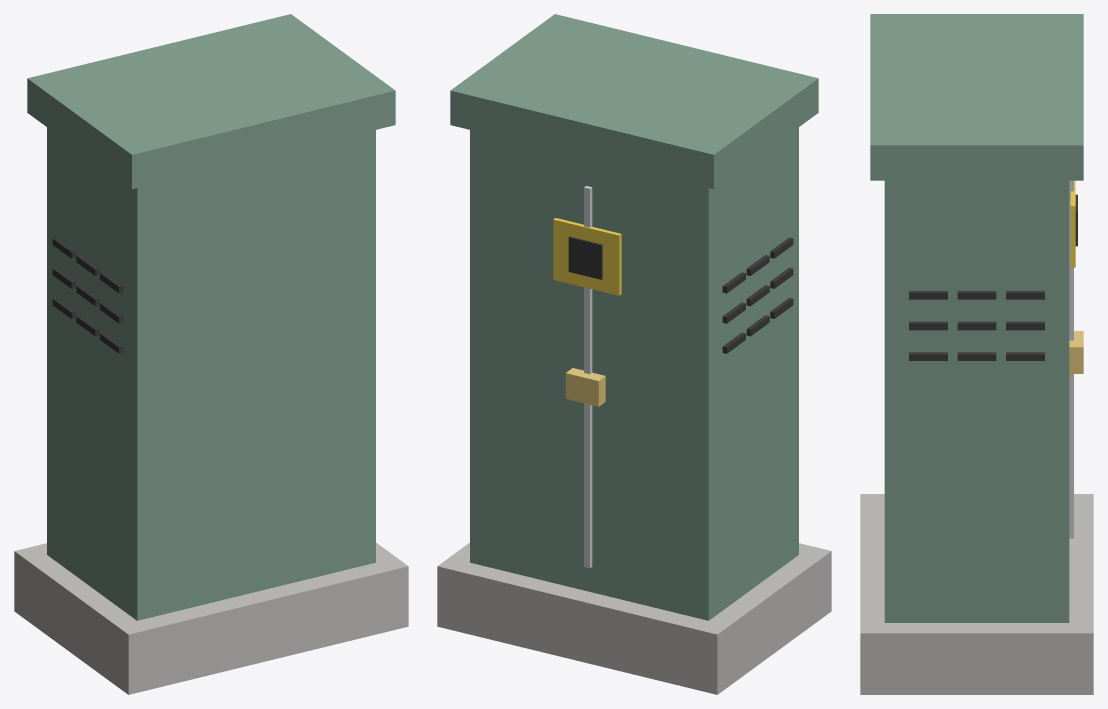
Rendered from prop_electrical_feeder_01.glb.
3 renders of one model, left to right at view 1: azimuth 30°, elevation 25°; view 2: azimuth 150°, elevation 25°; view 3: azimuth 270°, elevation 25°, orthographic. The views are drawn at different scales.
Visible parts, largest first — view 1: Feeder_Cabinet.003, Feeder_Roof_Overhang.003, Feeder_Plinth.003; view 2: Feeder_Cabinet.003, Feeder_Roof_Overhang.003, Feeder_Plinth.003, Feeder_Hazard_Plate.003, Feeder_Door_Seam.003, Feeder_Padlock_Hasp.003, Feeder_Hazard_Symbol.003; view 3: Feeder_Cabinet.003, Feeder_Roof_Overhang.003, Feeder_Plinth.003, Feeder_Door_Seam.003, Feeder_Padlock_Hasp.003, Feeder_Hazard_Plate.003, Feeder_Louver_R_0.0_0.008, Feeder_Louver_R_0.1_0.008, Feeder_Louver_R_-0.1_0.008.
Part boxes in pixels (bbox=[...]): Feeder_Cabinet.003: bbox=[47, 127, 375, 620]; Feeder_Roof_Overhang.003: bbox=[27, 14, 395, 189]; Feeder_Plinth.003: bbox=[14, 542, 408, 694]; Feeder_Cabinet.003: bbox=[470, 127, 798, 620]; Feeder_Roof_Overhang.003: bbox=[450, 14, 818, 189]; Feeder_Plinth.003: bbox=[437, 542, 831, 694]; Feeder_Hazard_Plate.003: bbox=[553, 218, 621, 295]; Feeder_Door_Seam.003: bbox=[584, 186, 592, 568]; Feeder_Padlock_Hasp.003: bbox=[565, 368, 605, 406]; Feeder_Hazard_Symbol.003: bbox=[568, 236, 602, 279]; Feeder_Cabinet.003: bbox=[884, 180, 1069, 622]; Feeder_Roof_Overhang.003: bbox=[870, 14, 1083, 180]; Feeder_Plinth.003: bbox=[860, 494, 1093, 694]; Feeder_Door_Seam.003: bbox=[1069, 180, 1073, 538]; Feeder_Padlock_Hasp.003: bbox=[1069, 331, 1083, 373]; Feeder_Hazard_Plate.003: bbox=[1070, 180, 1075, 267]; Feeder_Louver_R_0.0_0.008: bbox=[957, 321, 996, 330]; Feeder_Louver_R_0.1_0.008: bbox=[1006, 321, 1044, 330]; Feeder_Louver_R_-0.1_0.008: bbox=[909, 321, 947, 330].
Size of what is drawn, in the model's own units: 0.68 by 1.24 by 0.48.
